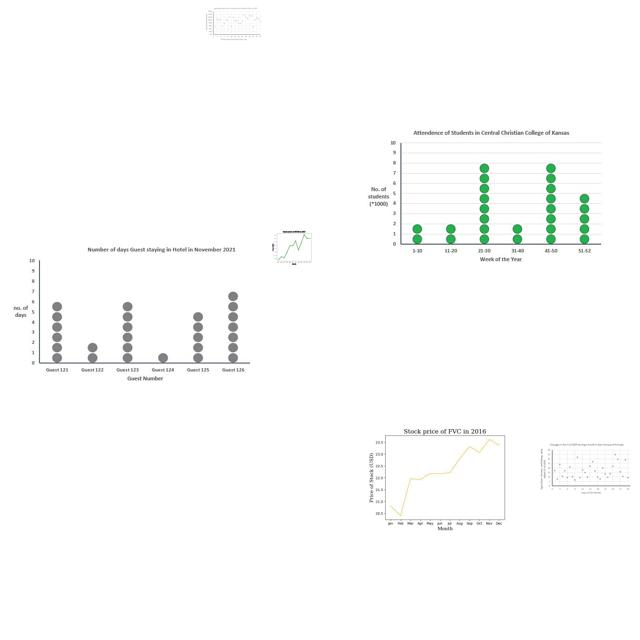Graph: (363, 126, 606, 267), (11, 244, 250, 385), (366, 419, 520, 535), (538, 443, 633, 495), (205, 7, 262, 41), (267, 229, 320, 265)
